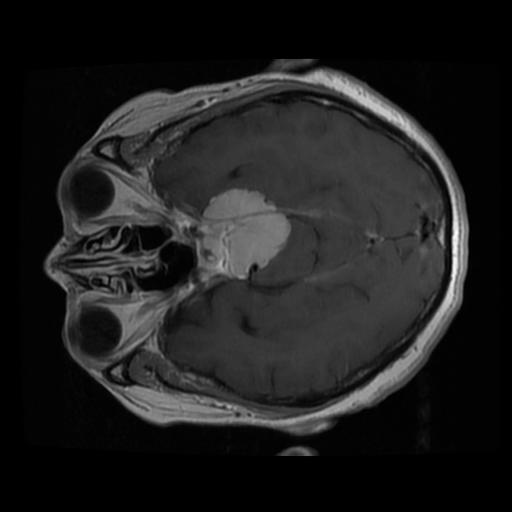meningioma: (194, 188, 291, 280)
